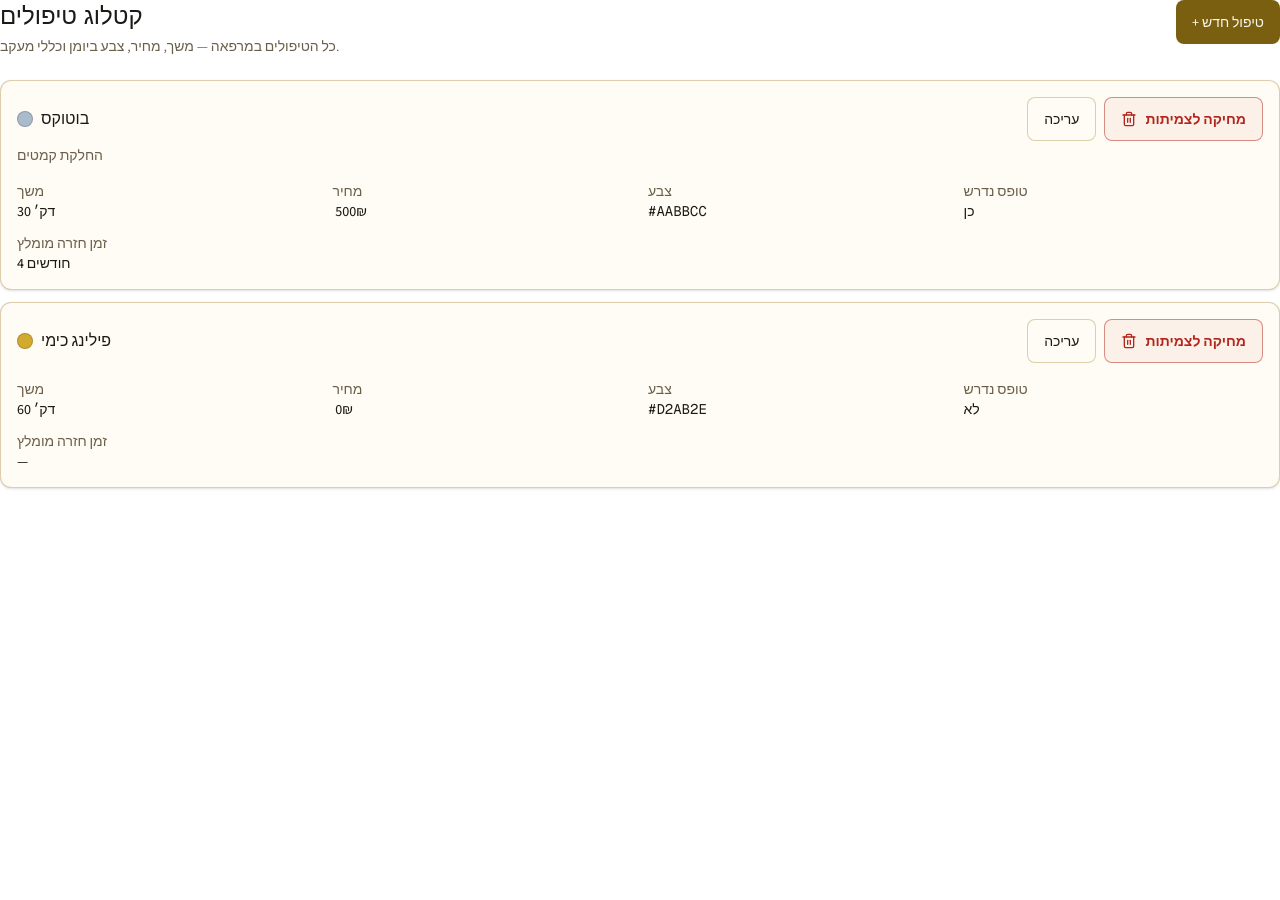
Test: TreatmentsCatalog — פתיחת דיאלוג › כפתור "עריכה" פותח דיאלוג עריכה טעון בערכי הטיפול
Click the button with aria-label "עריכת בוטוקס": {"x": 1062, "y": 119} top-left (1027, 97), bottom-right (1096, 141)
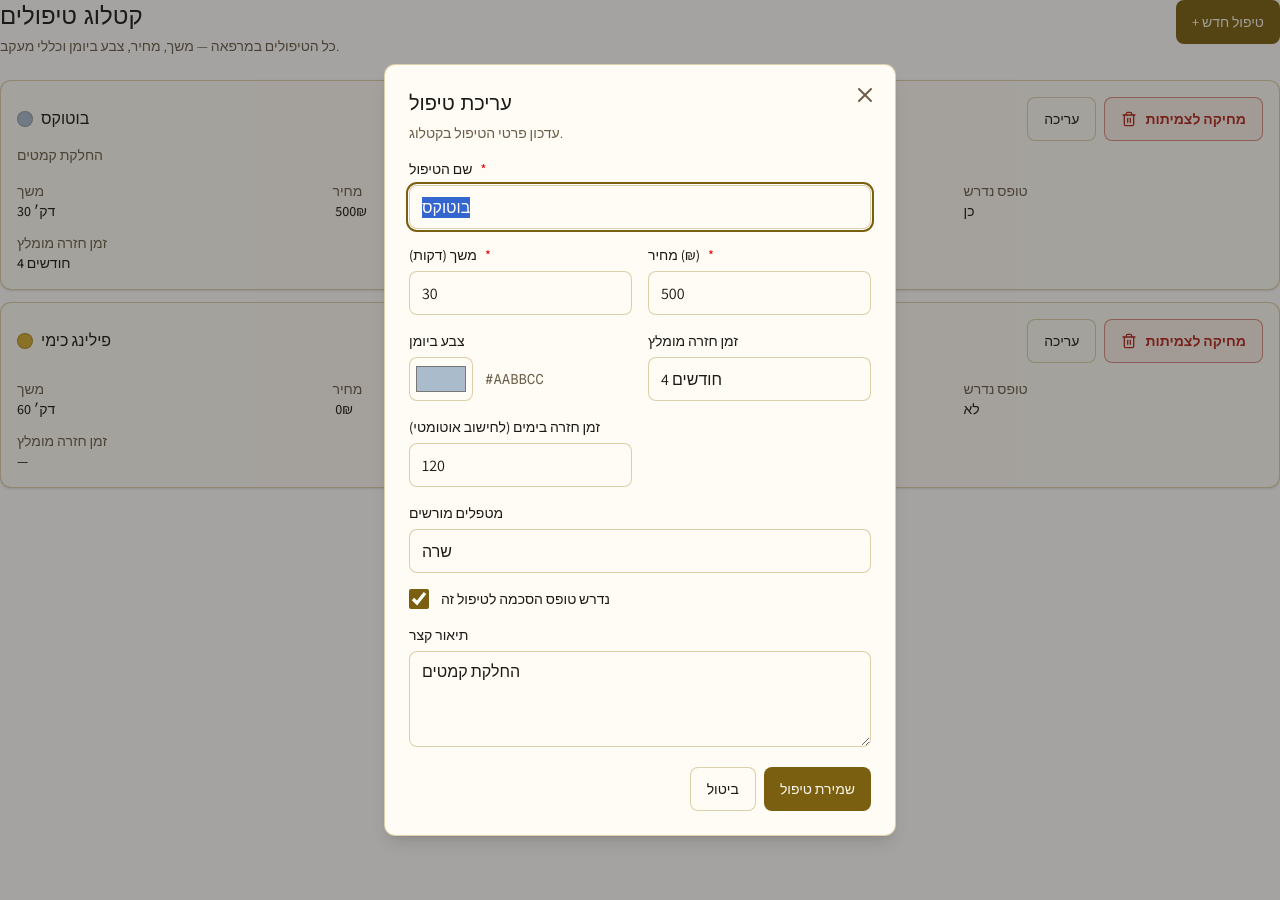
Expected: the heading "עריכת טיפול" is shown, top-left (409, 92), bottom-right (512, 114)
Expected: the field with id "et-name" holds "בוטוקס", top-left (409, 185), bottom-right (871, 229)
Expected: the number field with id "et-duration" holds "30", top-left (409, 271), bottom-right (632, 315)
